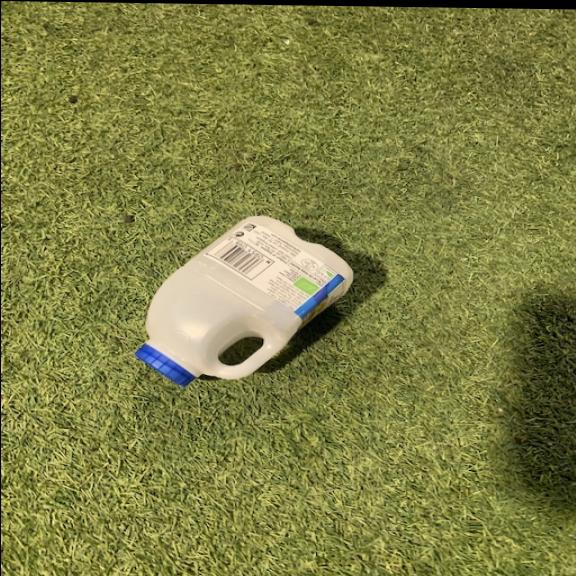Plastik: (133, 210, 353, 388)
